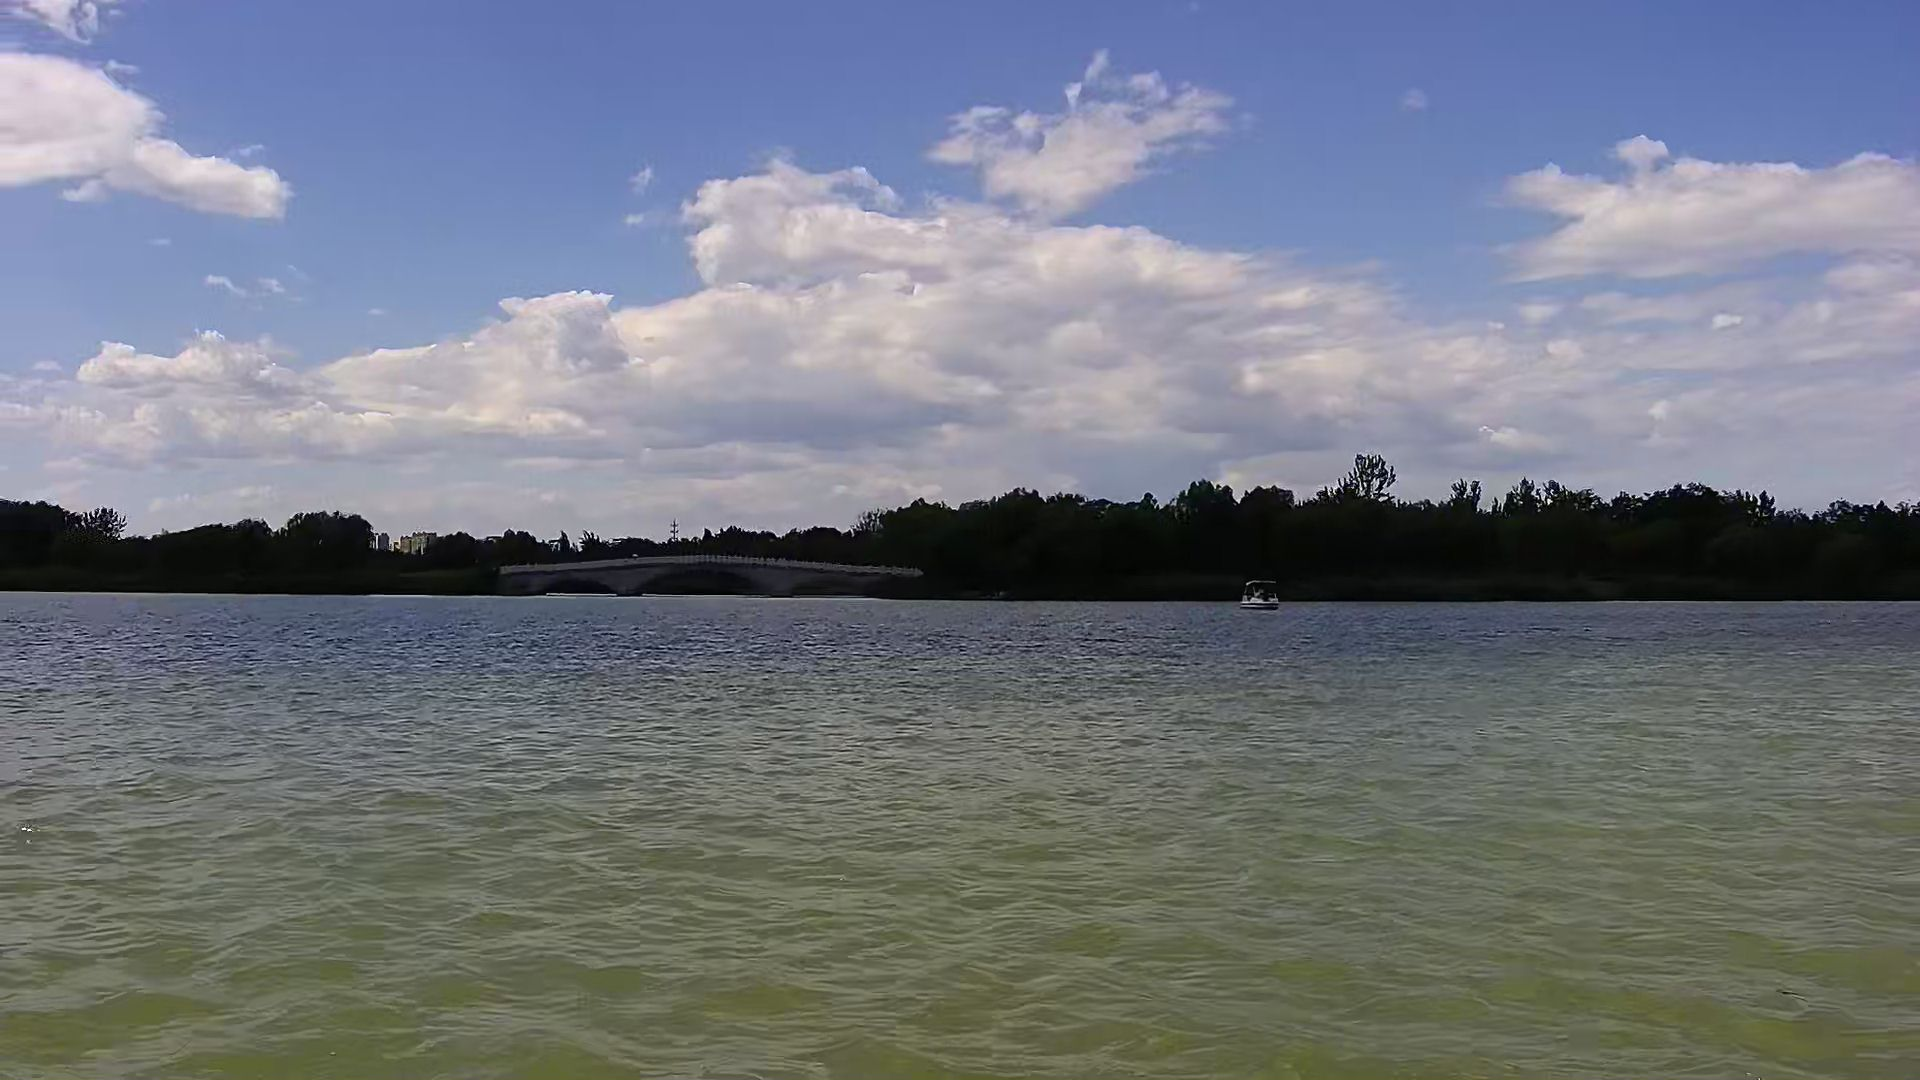boat: (1240, 572, 1280, 613)
bridge: (498, 553, 920, 597)
